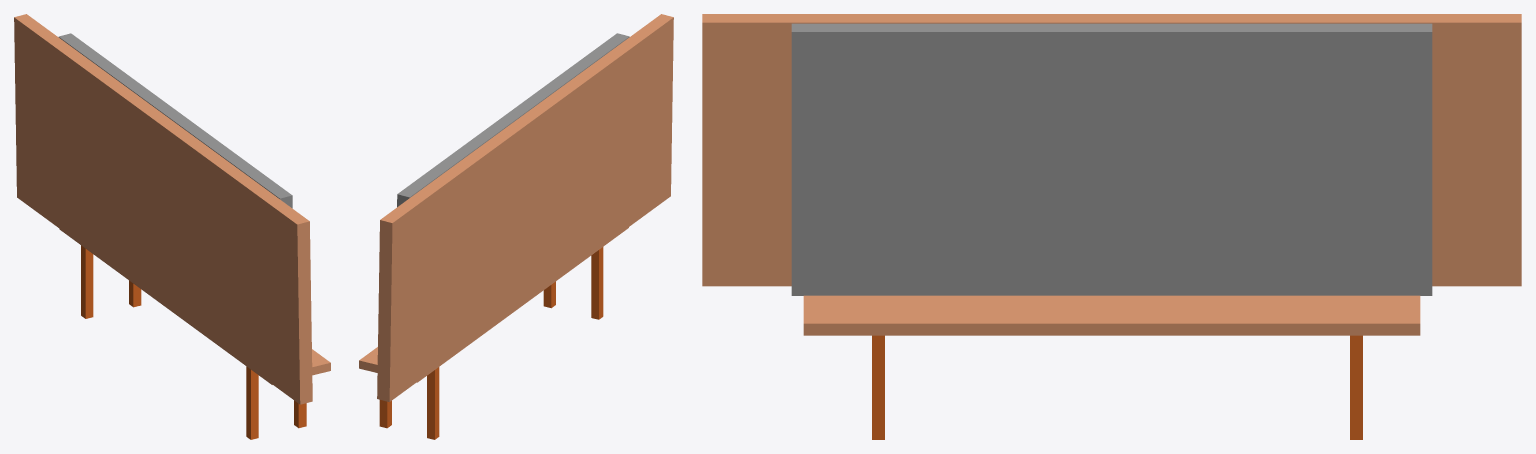
Rendered from papam board.fbx.
3 views of the same model, side by side, from view 1: azimuth 30°, elevation 25°; view 2: azimuth 150°, elevation 25°; view 3: azimuth 270°, elevation 25° (orthographic). The views are drawn at different scales.
Visible parts, largest first — view 1: Cube.005, Cube.006, Cube.001, Cube.003, Cube.004, Cube; view 2: Cube.005, Cube.006, Cube.003, Cube.001, Cube.004, Cube.002; view 3: Cube.006, Cube.005, Cube.004, Cube, Cube.002.
Boxes of the visible parts, left/top/right/bottom form: Cube.005: left=14, top=14, right=312, bottom=404; Cube.006: left=58, top=33, right=292, bottom=208; Cube.001: left=246, top=366, right=258, bottom=439; Cube.003: left=81, top=245, right=93, bottom=318; Cube.004: left=59, top=228, right=330, bottom=384; Cube: left=294, top=400, right=306, bottom=428; Cube.005: left=377, top=14, right=673, bottom=401; Cube.006: left=397, top=33, right=629, bottom=207; Cube.003: left=427, top=367, right=439, bottom=439; Cube.001: left=591, top=247, right=603, bottom=319; Cube.004: left=359, top=227, right=628, bottom=382; Cube.002: left=379, top=400, right=391, bottom=428; Cube.006: left=791, top=23, right=1432, bottom=295; Cube.005: left=702, top=14, right=1521, bottom=286; Cube.004: left=803, top=295, right=1420, bottom=335; Cube: left=872, top=335, right=884, bottom=439; Cube.002: left=1350, top=335, right=1362, bottom=439.
Bounding box in the file's own units: 1752 × 6381 × 12526.
